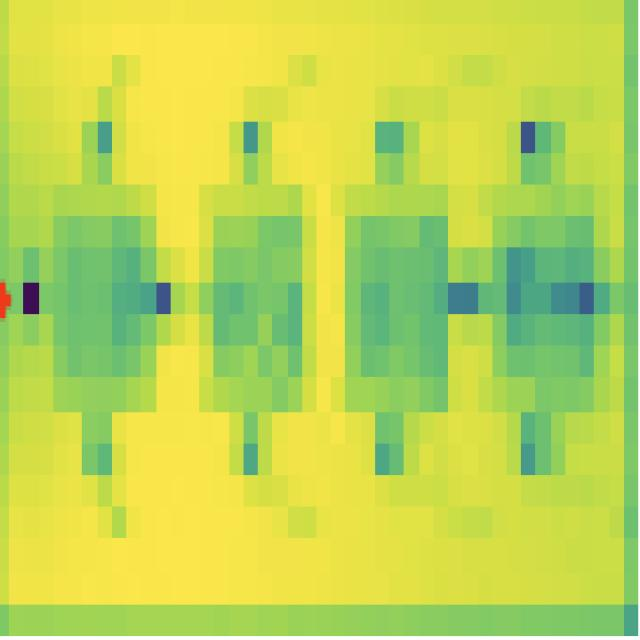Concrete: (338, 174, 457, 436)
Glass: (200, 157, 320, 439)
Metal: (476, 174, 612, 435)
Wood: (48, 164, 163, 494)
